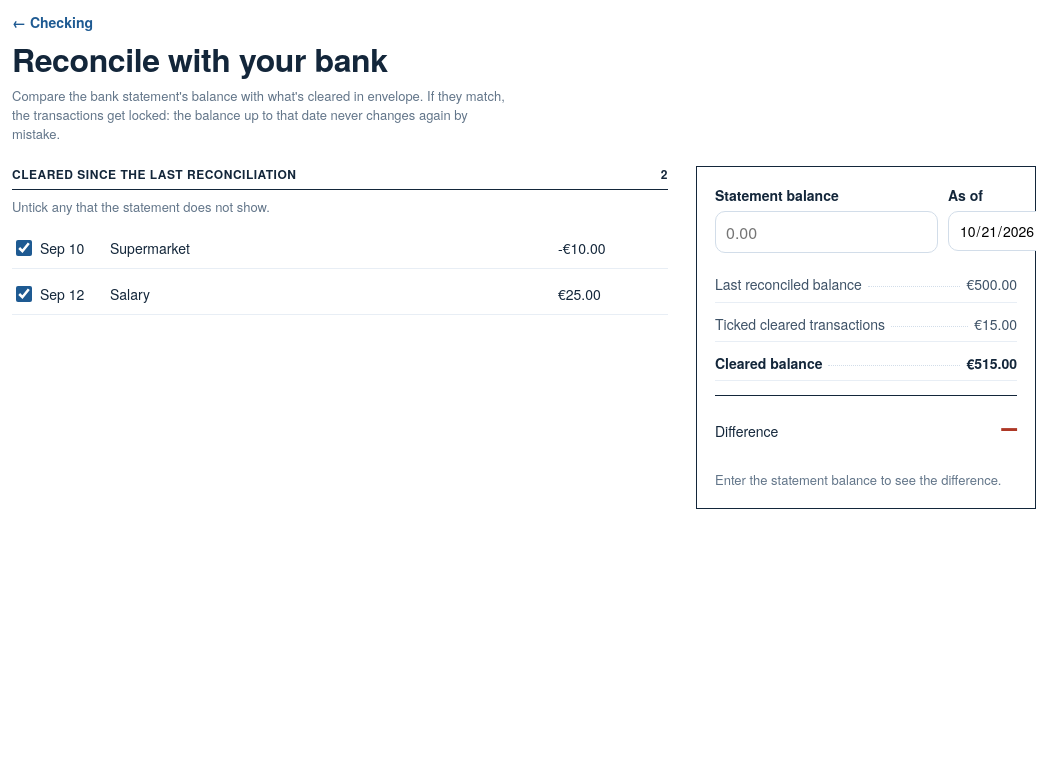
Scenario: ReconciliationScreen (#60) › lets the user add an adjustment transaction for a real difference, choosing its category
Expected: the link "← Checking" is shown, [12,12,93,32]
Type "520.00" into the field labelled "Statement balance" at point(826, 232), box [716,212,937,252]
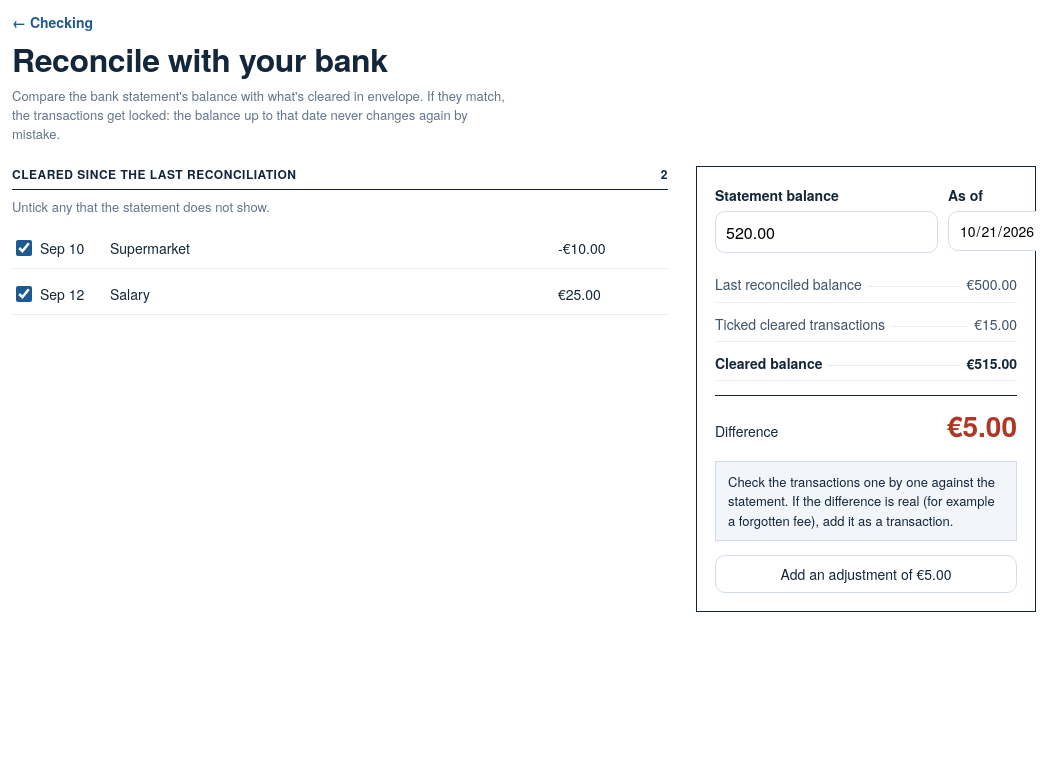
Result: the text "Check the transactions one by one" is shown at [728,472,995,530]
Click the button "Add an adjustment of €5.00" at point(866, 574), box [715,555,1017,593]
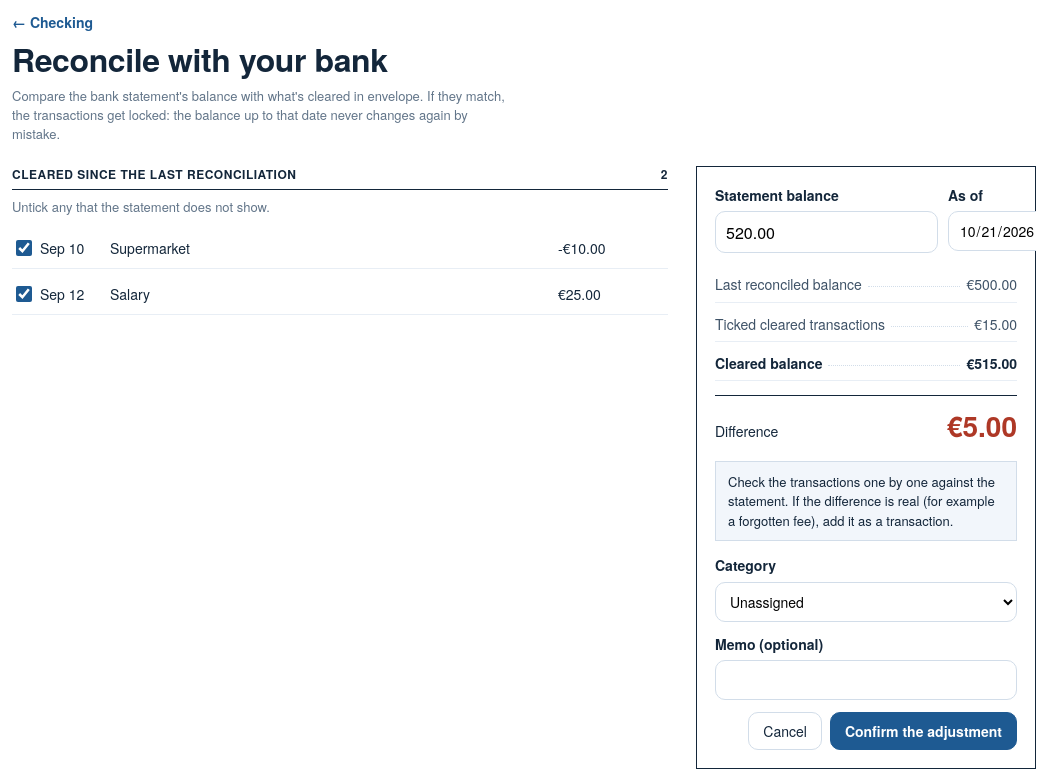
Select "Groceries" in the dropdown labelled "Category" at point(866, 602), box [715,582,1017,622]
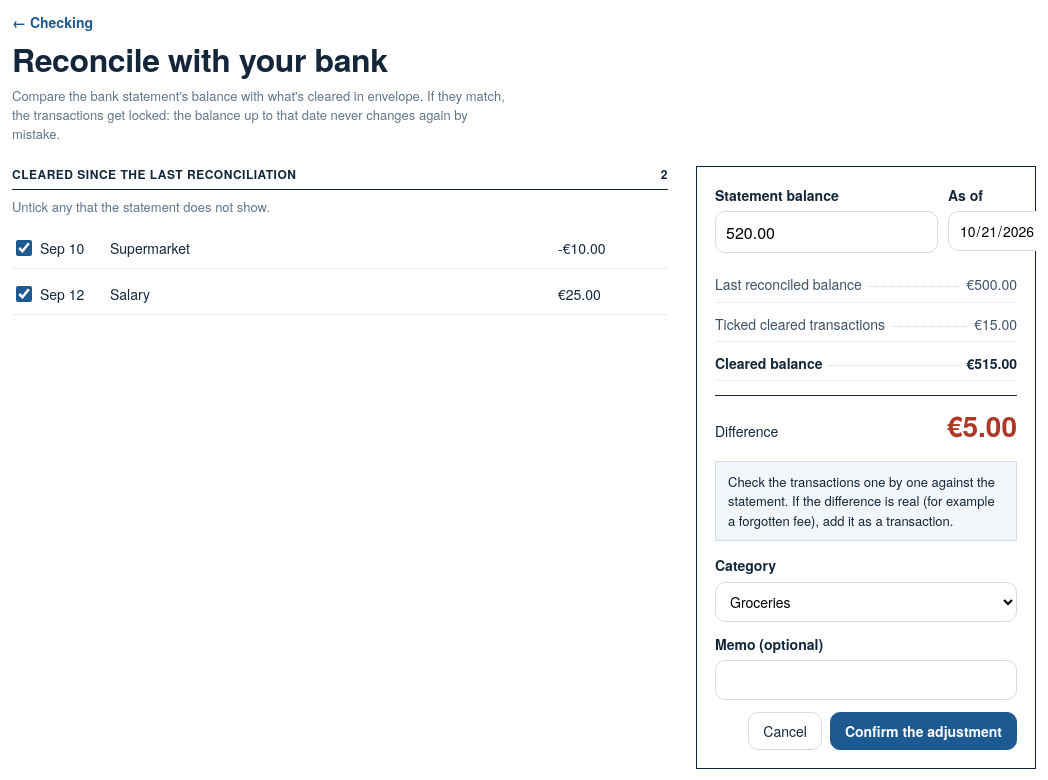
Click the button "Confirm the adjustment" at point(923, 731), box [830,712,1017,750]
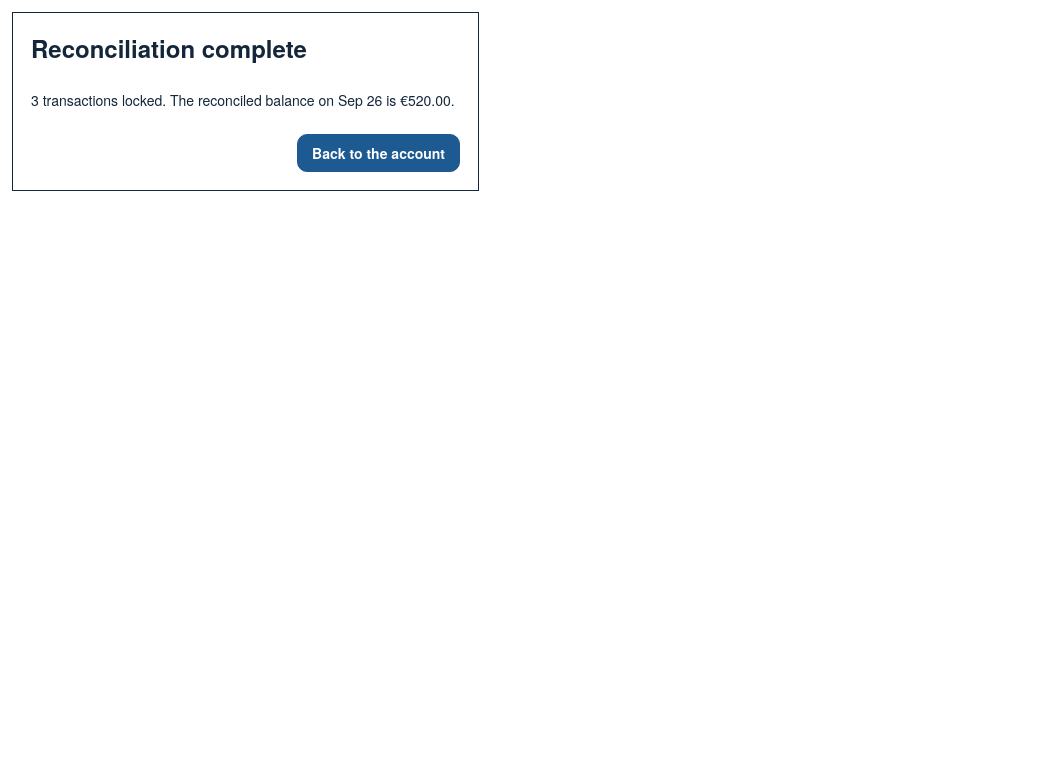
Result: the heading "Reconciliation complete" is shown at [31,31,307,65]
